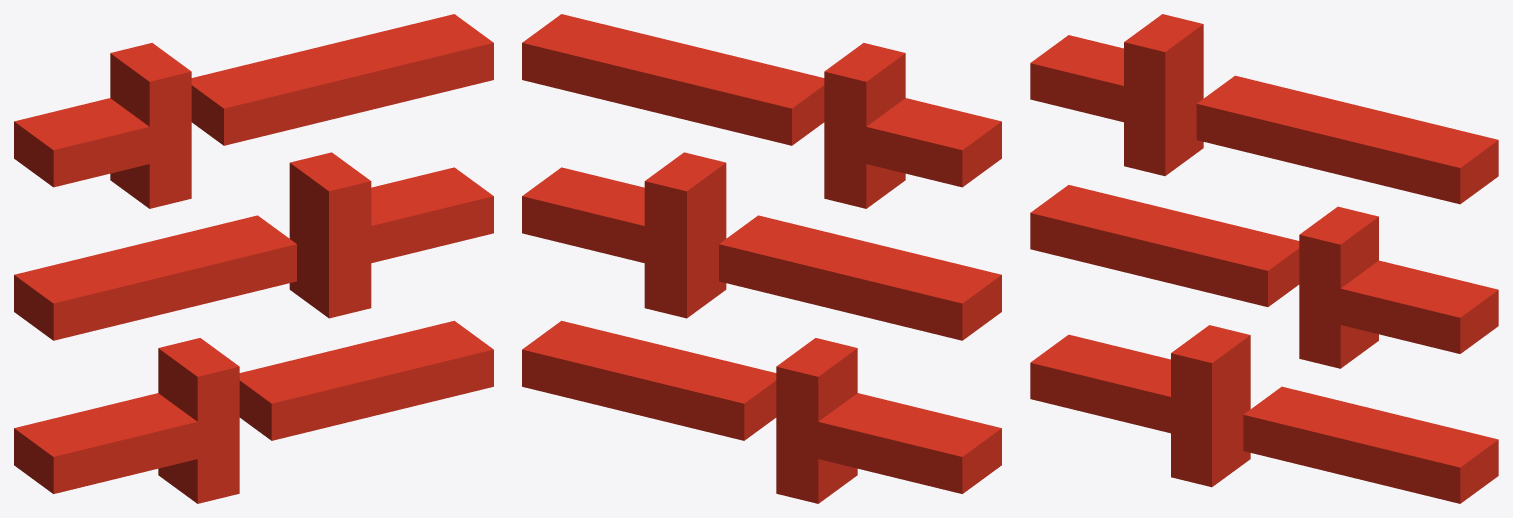
File: Icon_Filter_01.fbx
3 views of the same model, side by side, from view 1: azimuth 30°, elevation 25°; view 2: azimuth 150°, elevation 25°; view 3: azimuth 330°, elevation 25° (orthographic). The views are drawn at different scales.
Visible parts, largest first — view 1: Icon_Filter_01; view 2: Icon_Filter_01; view 3: Icon_Filter_01.
Boxes of the visible parts, x1,y1,x2,y2 form: Icon_Filter_01: (14,14,493,503); Icon_Filter_01: (522,14,1001,503); Icon_Filter_01: (1030,14,1498,503).
Size of the model in its own units: 77.9 by 73.33 by 12.06.
